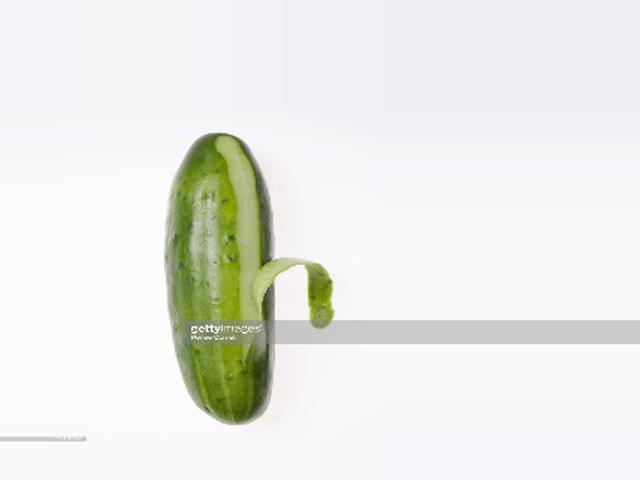cucumber: (166, 131, 277, 425)
